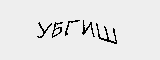Б: (51, 19, 63, 39)
Г: (65, 17, 79, 36)
И: (79, 19, 95, 39)
У: (34, 20, 52, 39)
Ш: (96, 23, 117, 45)
